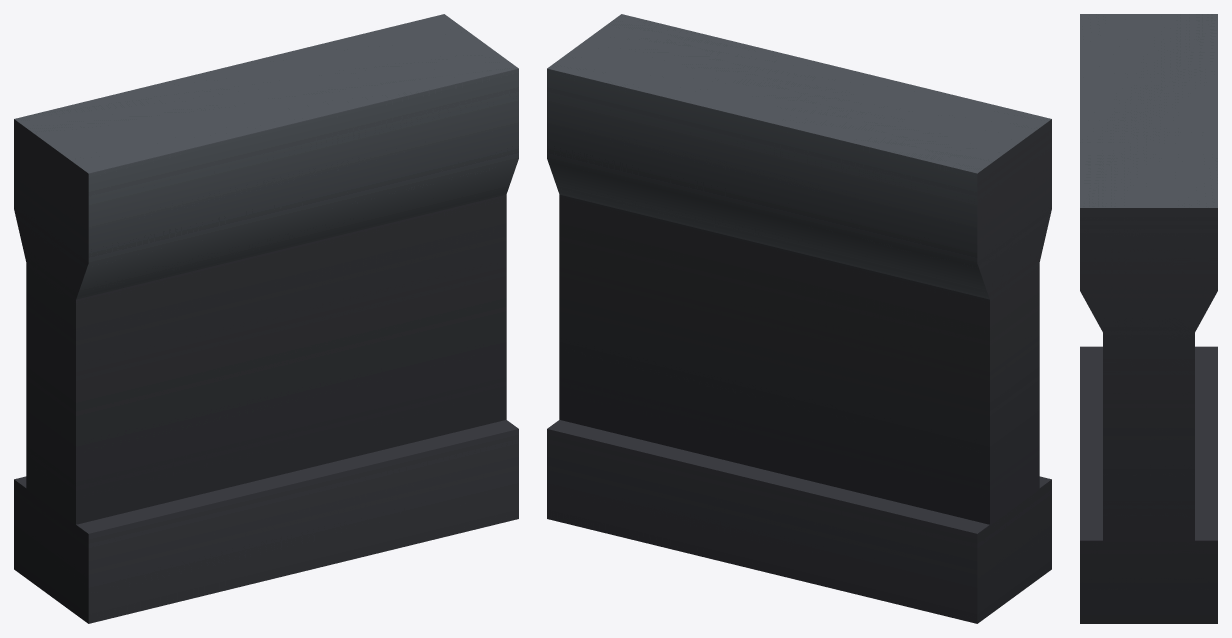
The model's file is s_wall.glb.
3 renders of one model, left to right at view 1: azimuth 30°, elevation 25°; view 2: azimuth 150°, elevation 25°; view 3: azimuth 270°, elevation 25°, orthographic. The views are drawn at different scales.
Visible parts, largest first — view 1: wall; view 2: wall; view 3: wall.
Part boxes in pixels (box(x1,y1,x2,y2)): wall: box(14, 14, 518, 623); wall: box(547, 14, 1051, 623); wall: box(1080, 14, 1217, 623).
Size of the model in its own units: 1 by 1 by 0.3.
Materials: 1 (1 with a texture image).
